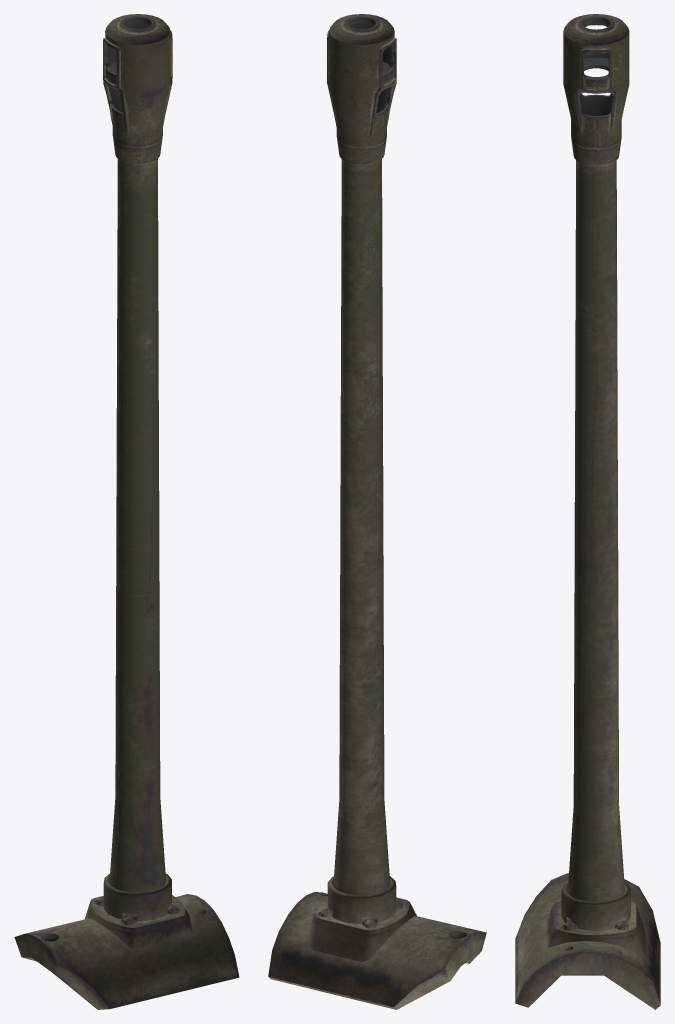
File: Gun_01.glb
The picture shows the model from 3 angles, left to right: view 1: azimuth 30°, elevation 25°; view 2: azimuth 150°, elevation 25°; view 3: azimuth 270°, elevation 25°; orthographic projection.
Parts seen in each view (by area): view 1: set_0_group_0; view 2: set_0_group_0; view 3: set_0_group_0.
Boxes of the visible parts, left/top/right/bottom form: set_0_group_0: left=14, top=14, right=239, bottom=1009; set_0_group_0: left=268, top=14, right=486, bottom=1009; set_0_group_0: left=515, top=14, right=660, bottom=1009.
Bounding box in the file's own units: 0.8031 × 4.43 × 0.6119.
Materials: 1 (1 with a texture image).
